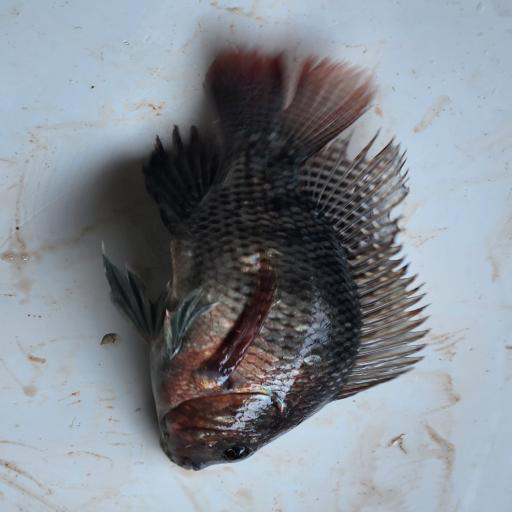Tilapia: (102, 42, 430, 471)
